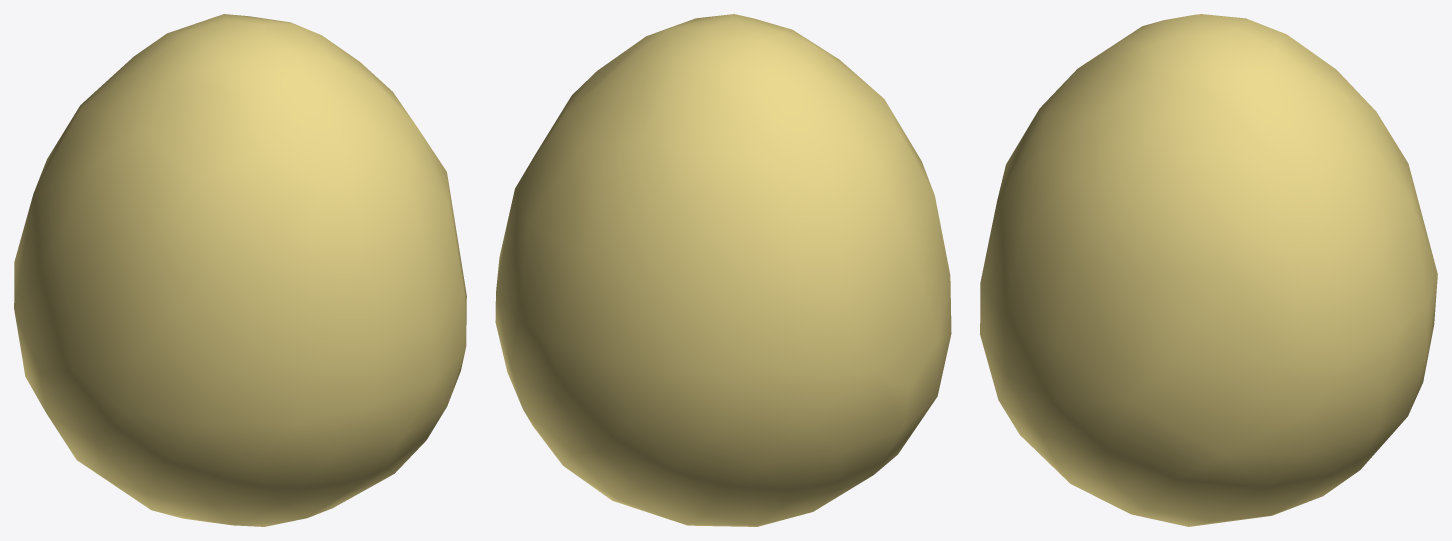
Rendered from Egg MG2.fbx.
3 views of the same model, side by side, from view 1: azimuth 30°, elevation 25°; view 2: azimuth 150°, elevation 25°; view 3: azimuth 270°, elevation 25° (orthographic).
Parts seen in each view (by area): view 1: Sphere; view 2: Sphere; view 3: Sphere.
Part boxes in pixels (x1,y1,x2,y2): Sphere: (14,14,466,526); Sphere: (495,14,951,526); Sphere: (980,14,1437,526).
Bounding box in the file's own units: 174 × 205 × 179.
